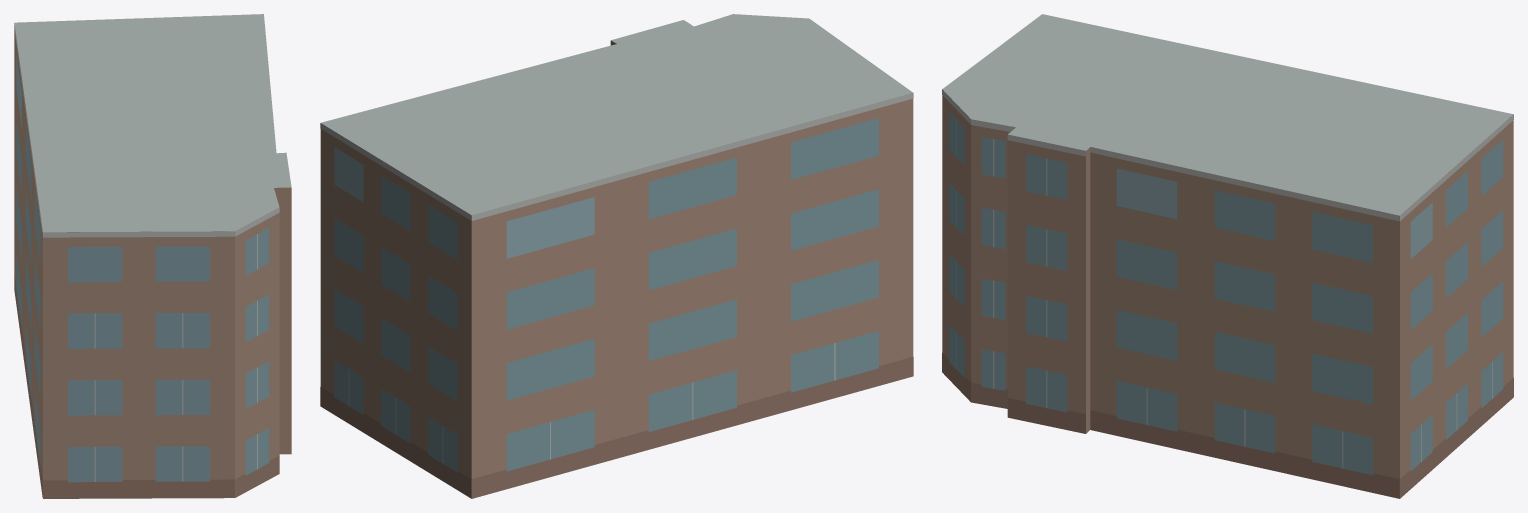
File: survey-upis-33039809.glb
3 views of the same model, side by side, from view 1: azimuth 30°, elevation 25°; view 2: azimuth 150°, elevation 25°; view 3: azimuth 270°, elevation 25° (orthographic). The views are drawn at different scales.
Visible parts, largest first — view 1: survey-upis-33039809.tmp; view 2: survey-upis-33039809.tmp; view 3: survey-upis-33039809.tmp.
Part boxes in pixels (<box>): survey-upis-33039809.tmp: <box>14,14,291,498</box>; survey-upis-33039809.tmp: <box>320,14,913,498</box>; survey-upis-33039809.tmp: <box>942,14,1513,498</box>.
Bounding box in the file's own units: 18.5 × 12.1 × 22.14.
